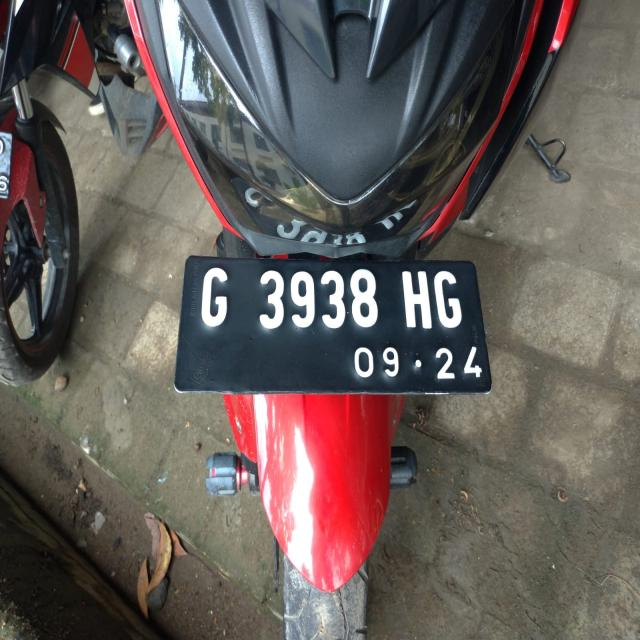plate: (184, 253, 492, 394)
